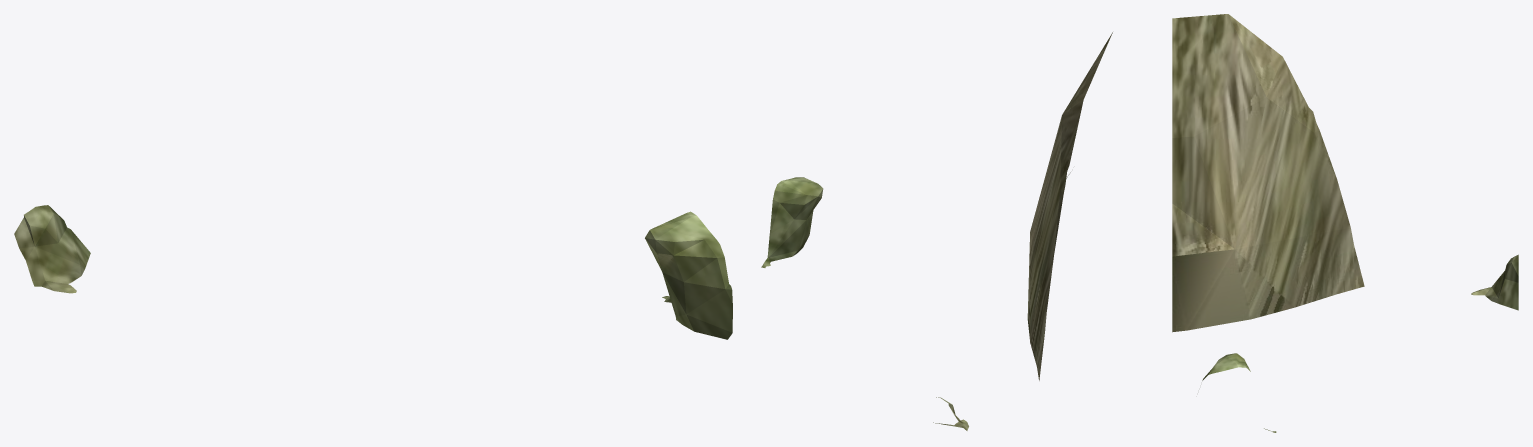
The picture shows the model from 3 angles, left to right: view 1: azimuth 30°, elevation 25°; view 2: azimuth 150°, elevation 25°; view 3: azimuth 270°, elevation 25°; orthographic projection. The views are drawn at different scales.
Size of the model in its own units: 2.95 by 2.56 by 2.95.
1 material, 1 textured.
